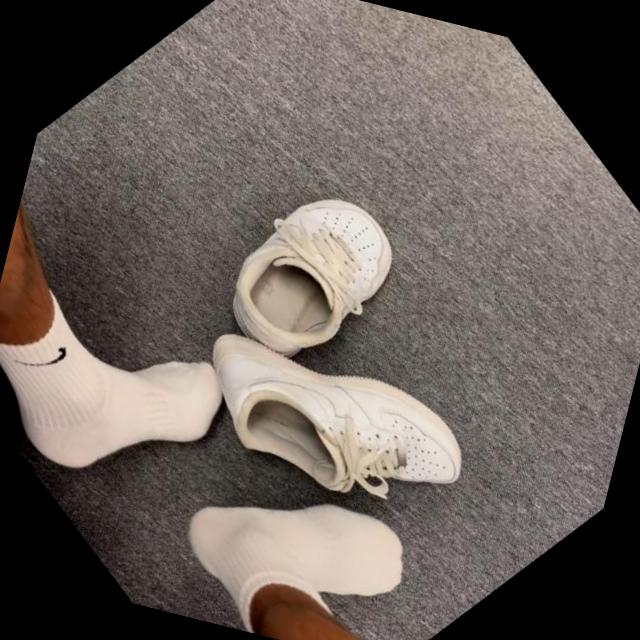nike_original_airforce: (130, 234, 522, 616), (175, 140, 446, 414)
